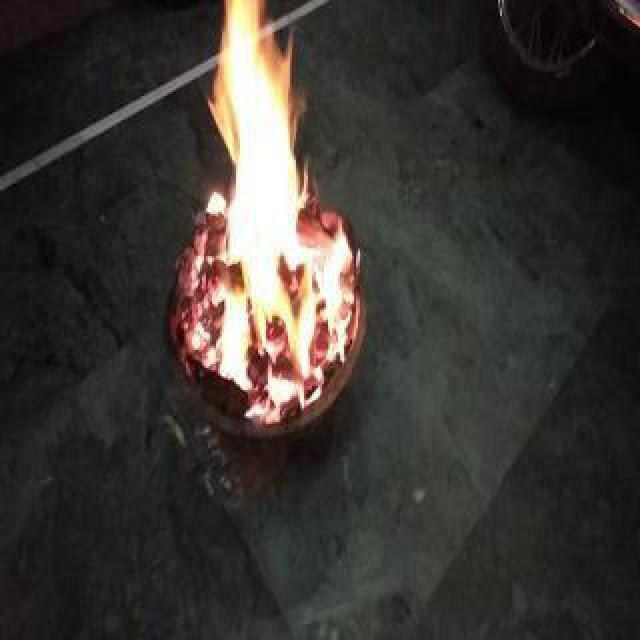Fire: (206, 2, 366, 438), (162, 208, 204, 384)
